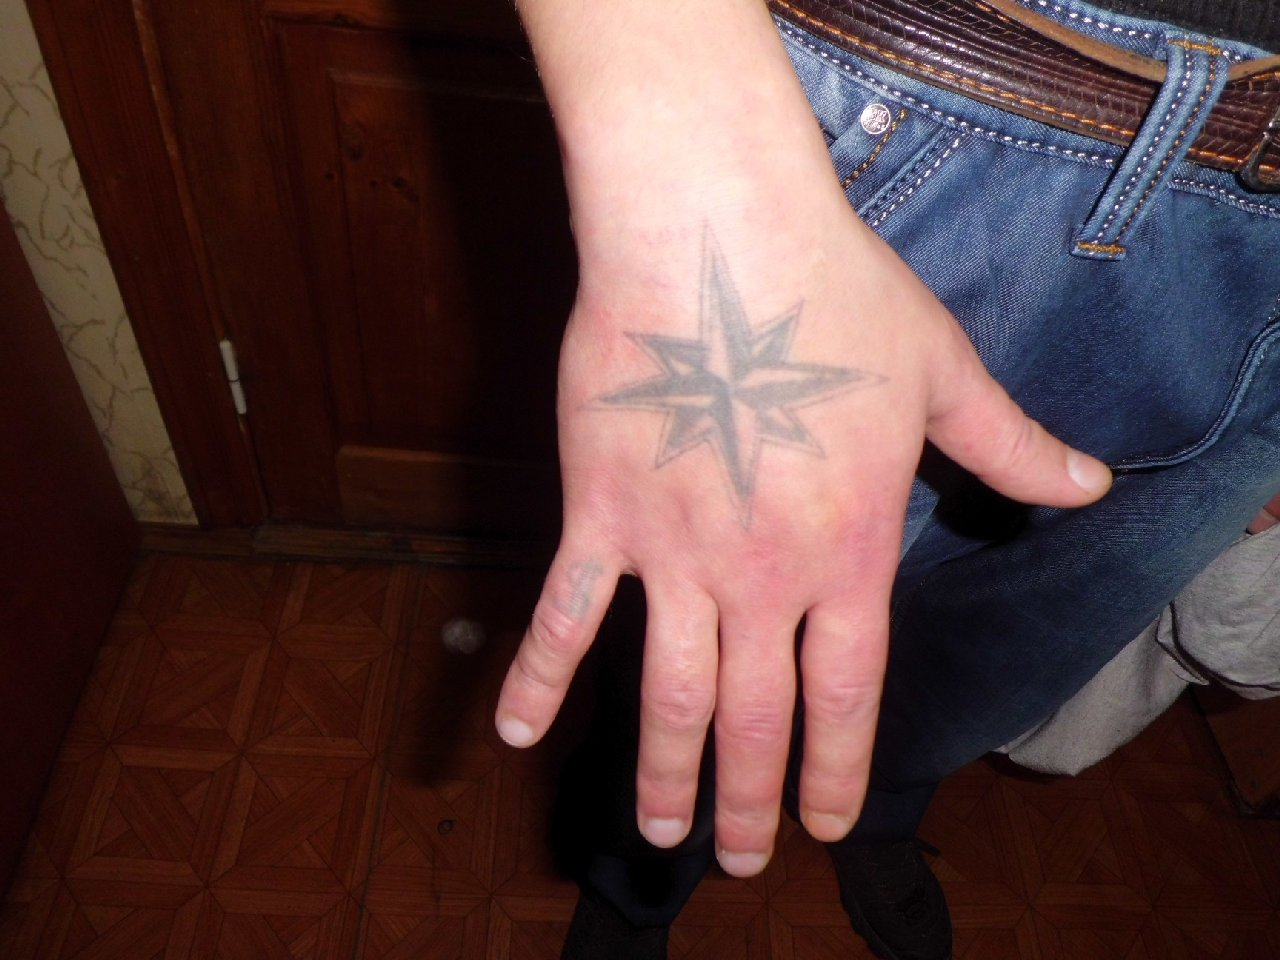tatu4_zvezda: (568, 218, 897, 537)
